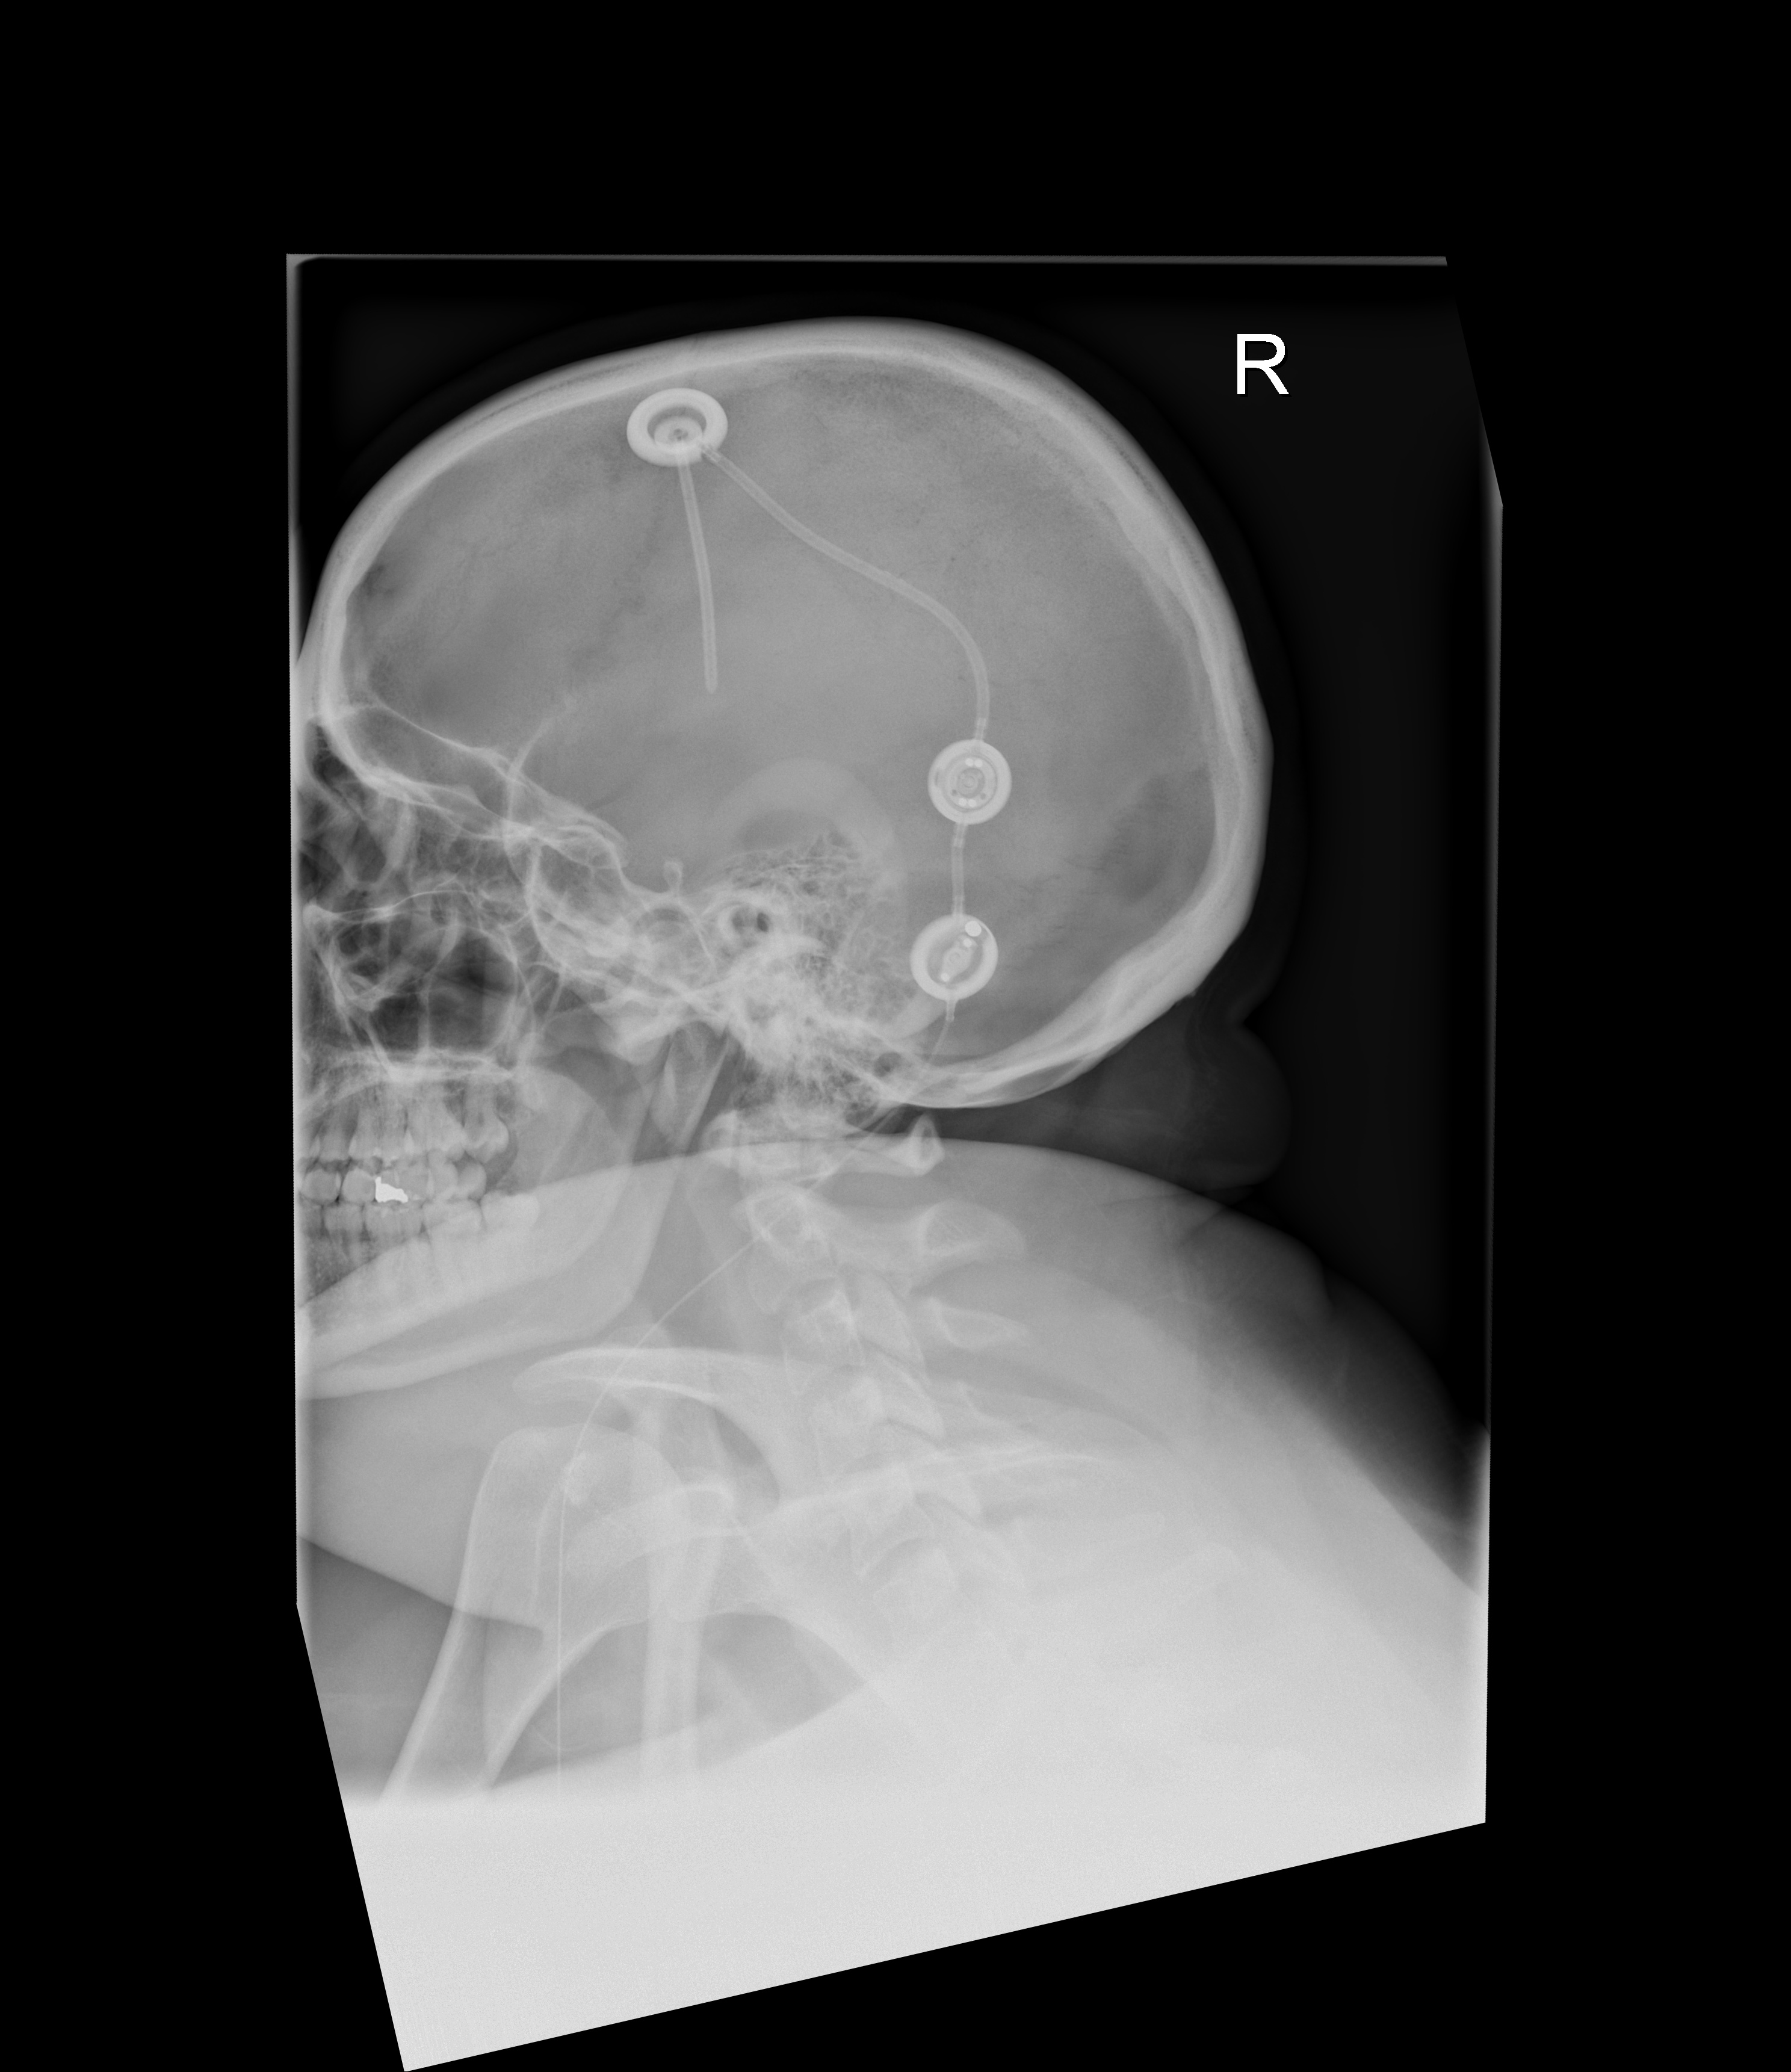proGAV 2.0: (922, 735, 1014, 832)
proSA: (904, 909, 1001, 1006)
